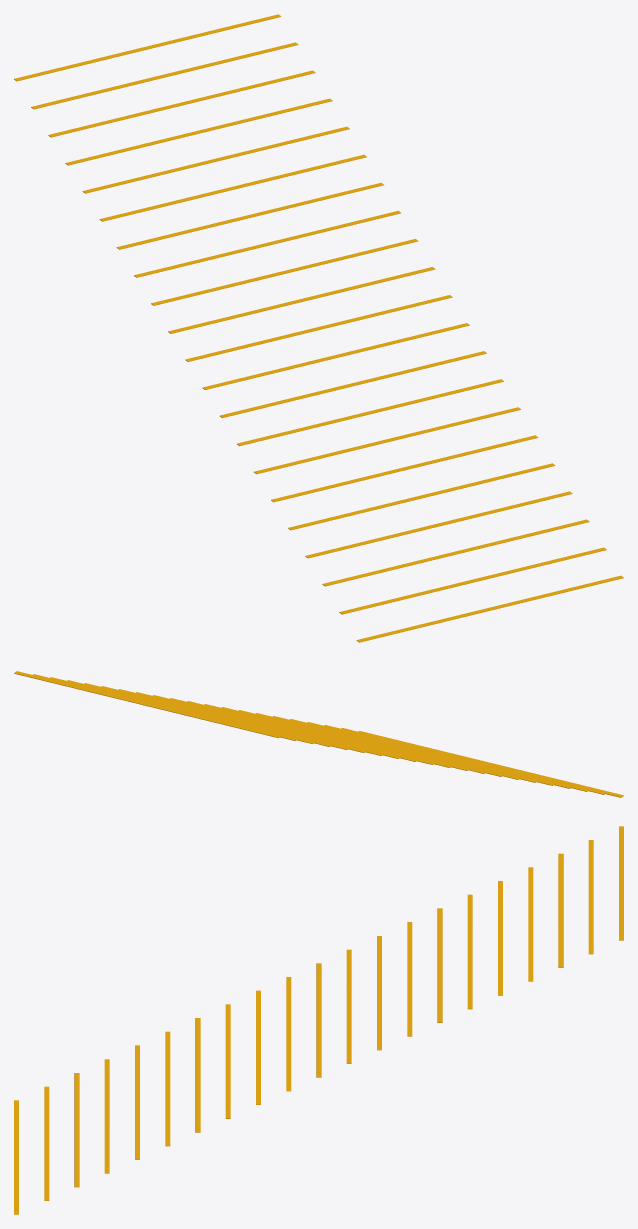
Rendered from gteki_ik_stair_n21_r164_t328_w2942_nosing.glb.
The picture shows the model from 3 angles, top to bottom: view 1: azimuth 30°, elevation 25°; view 2: azimuth 150°, elevation 25°; view 3: azimuth 270°, elevation 25°; orthographic projection. The views are drawn at different scales.
Parts seen in each view (by area): view 1: VIS_nosings; view 2: VIS_nosings; view 3: VIS_nosings.
Boxes of the visible parts, x1,y1,x2,y2 form: VIS_nosings: [14, 14, 623, 642]; VIS_nosings: [14, 671, 623, 797]; VIS_nosings: [14, 826, 623, 1214].
Bounding box in the file's own units: 2.93 × 3.29 × 6.62.
